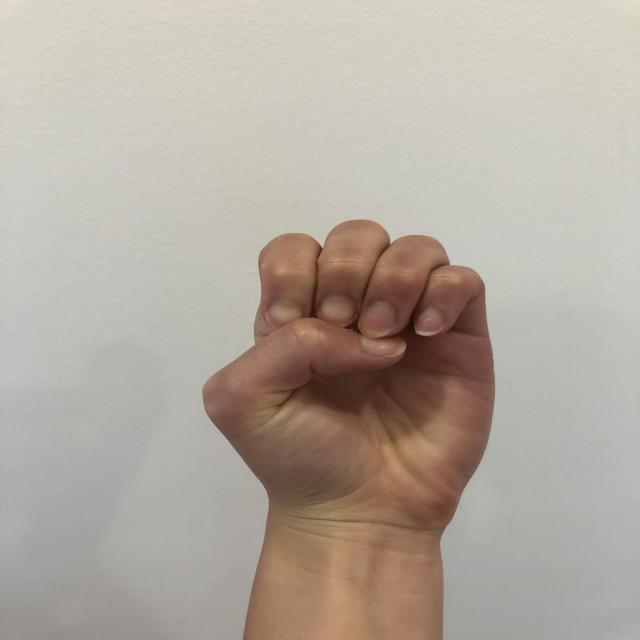E: (188, 215, 507, 538)
